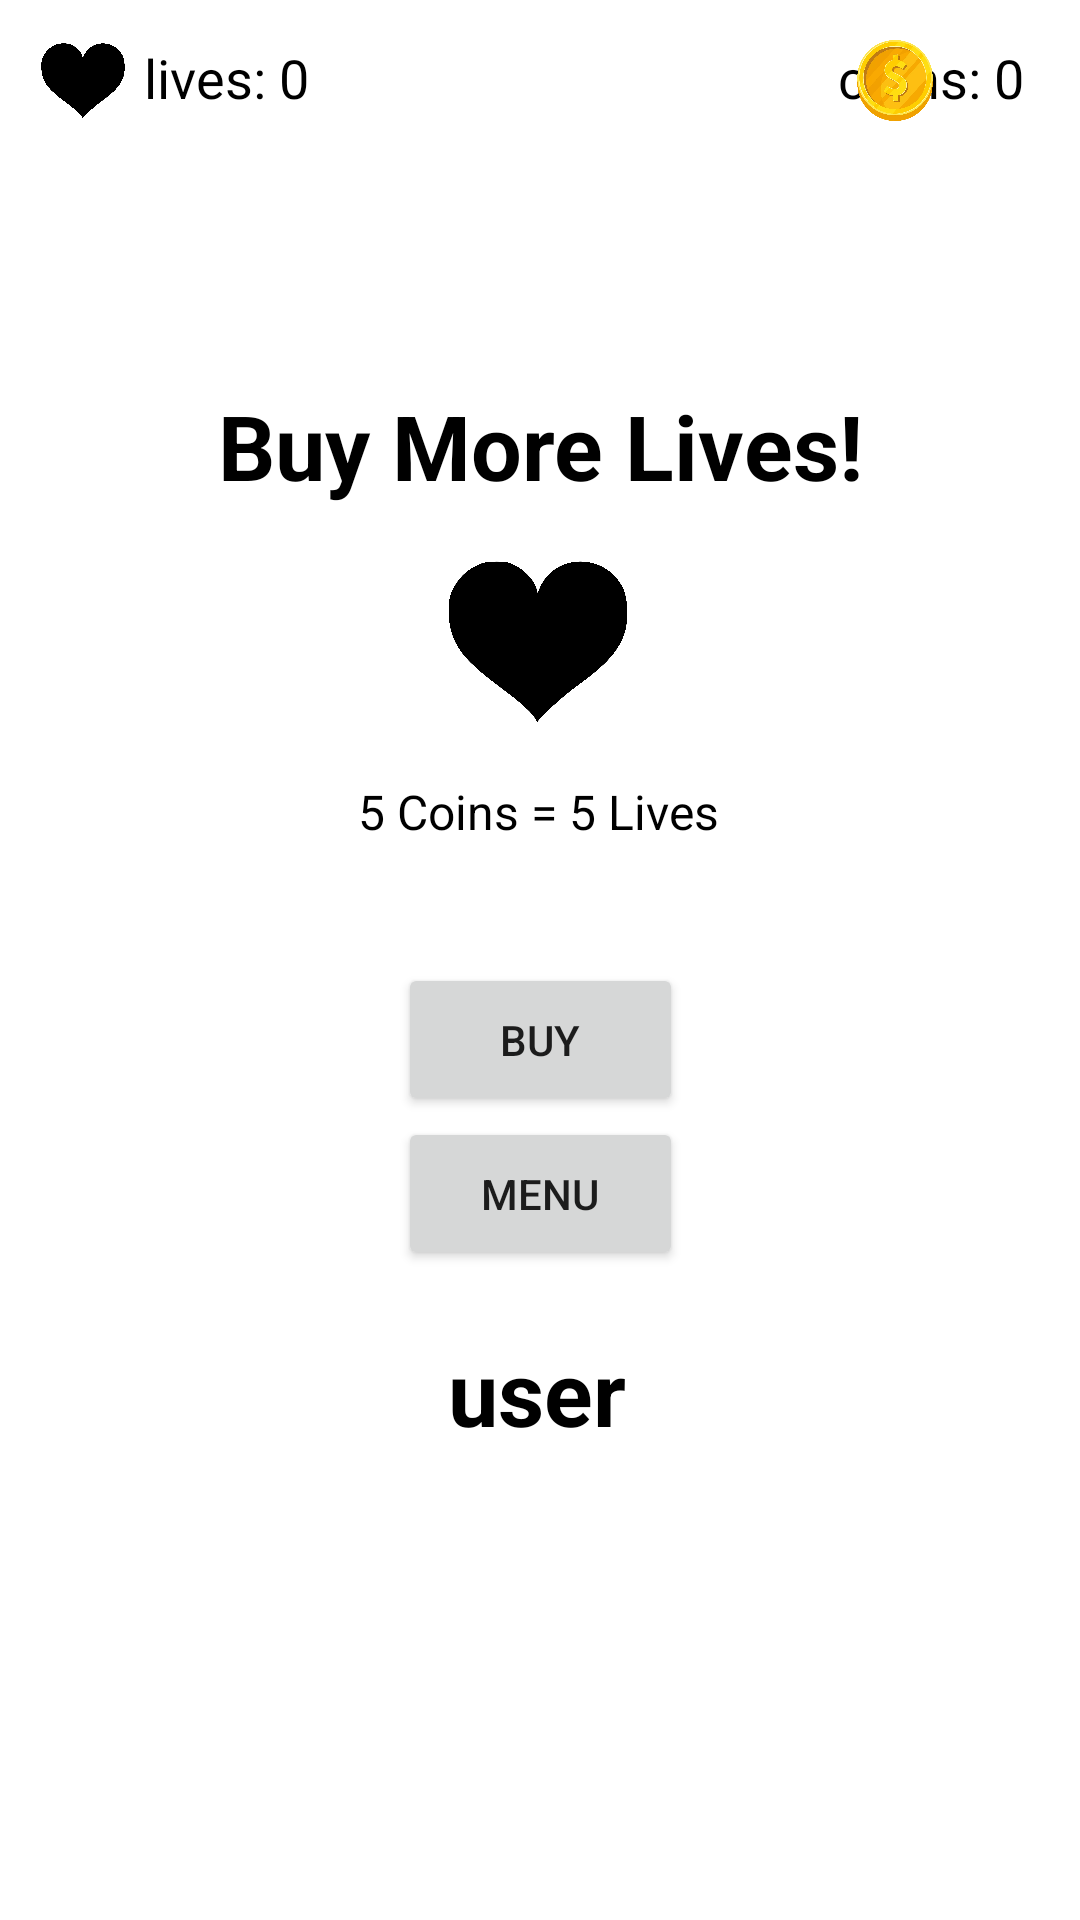

Where to tap for icons on this 1080 x 1920 app screen, as (x=x, y=y):
heart: (x=83, y=80), (x=538, y=641)
